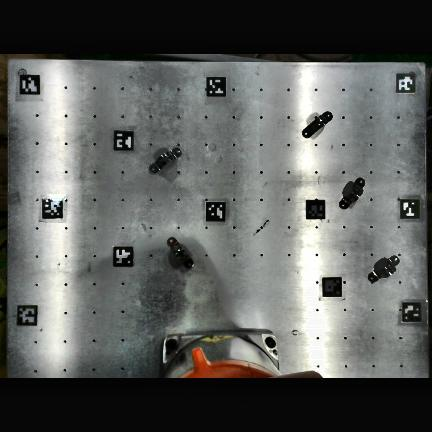clamp: (368, 256, 399, 283), (167, 237, 194, 268), (150, 148, 181, 173), (303, 112, 332, 138), (340, 179, 365, 209)
marker: (17, 304, 38, 325), (400, 198, 420, 219), (42, 198, 62, 218), (113, 246, 133, 266), (114, 130, 134, 150), (206, 75, 226, 95), (403, 300, 422, 321), (206, 201, 225, 222), (20, 75, 40, 94), (396, 73, 415, 93), (306, 200, 325, 219), (323, 278, 342, 296)
